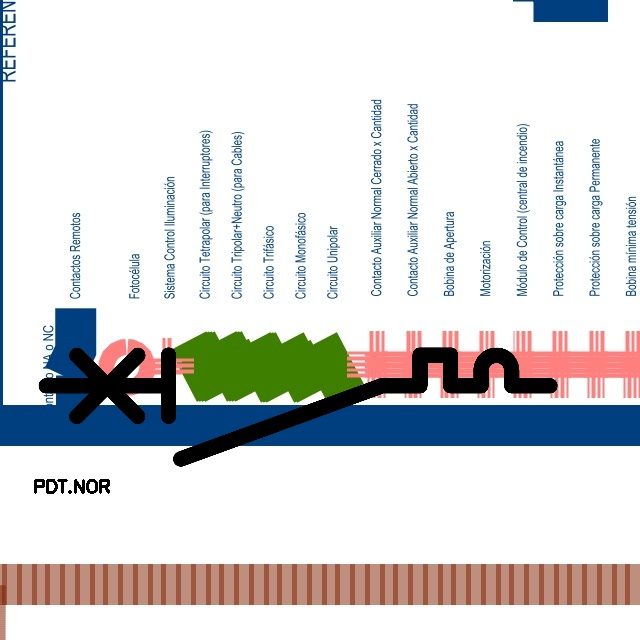interruptor_termomagnetico: (33, 342, 563, 471)
